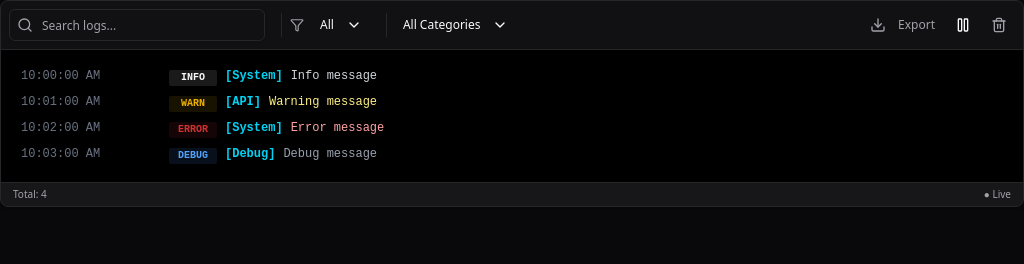
Test case: LogViewer › Level Filtering › should filter logs by level when warn is selected
This screenshot has width=1024, height=264.
Note: Open level dropdown - find the button that shows 'all' text
Click the button "all".
click(341, 25)  # box [312,13,370,37]
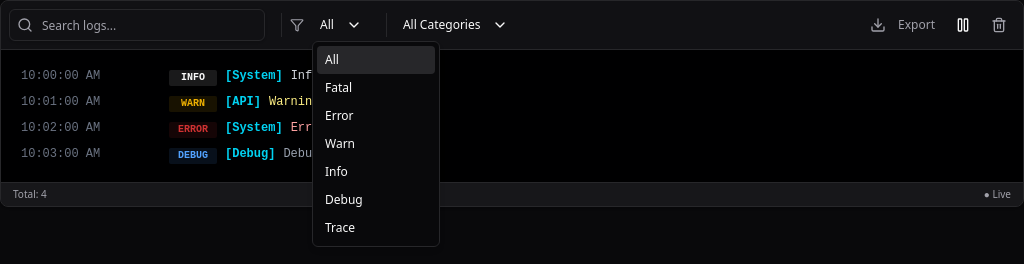
Note: Click warn option
Click the menu item "warn".
click(340, 144)  # box [325,135,355,152]
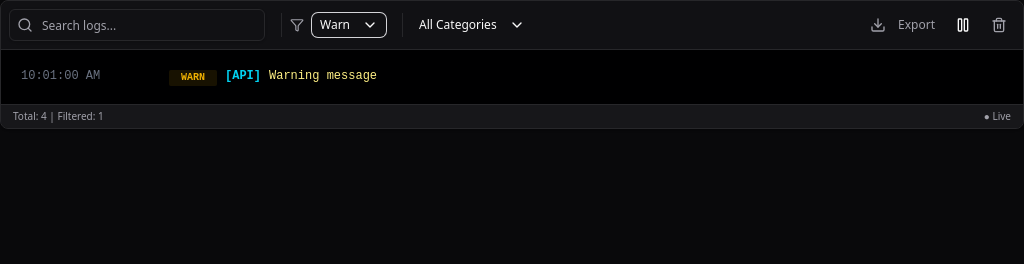
Expected: the text "Warning message" is shown, [269,68,377,86]
Expected: the text "Info message" is gone
